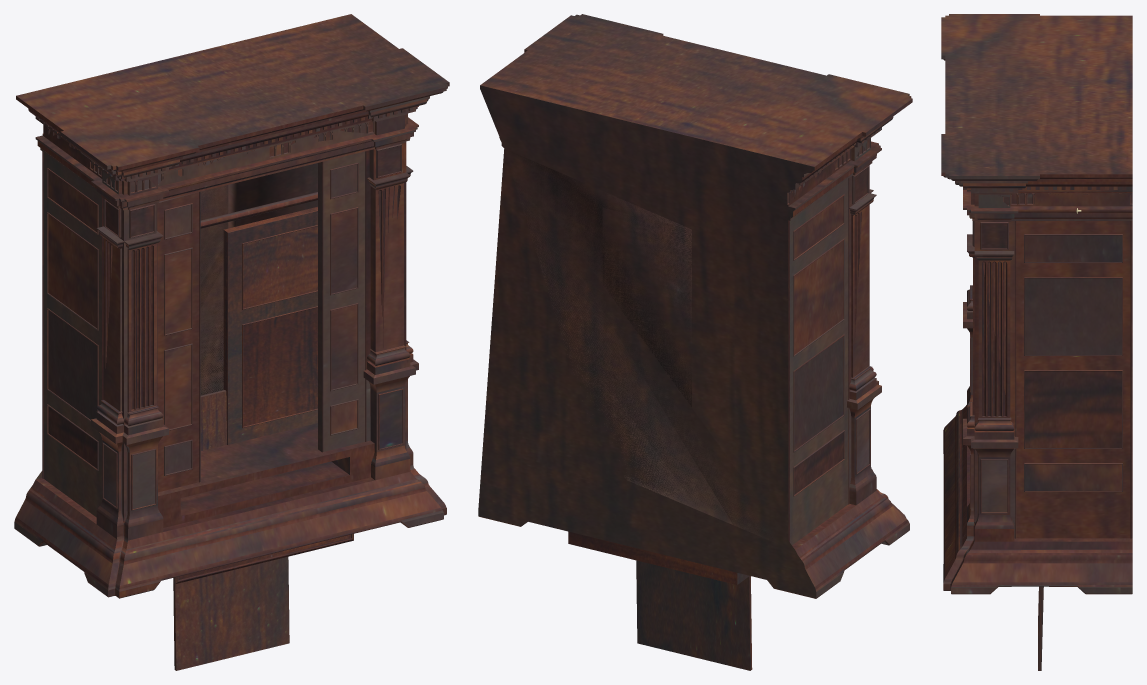
The model's file is wardrobe deform.fbx.
3 views of the same model, side by side, from view 1: azimuth 30°, elevation 25°; view 2: azimuth 150°, elevation 25°; view 3: azimuth 270°, elevation 25° (orthographic). The views are drawn at different scales.
Visible parts, largest first — view 1: Wardrobe, Wardrobe Door, Wardrobe Hidden Panel, Wardrone Chekmedzhe :P; view 2: Wardrobe, Wardrobe Hidden Panel, Wardrone Chekmedzhe :P; view 3: Wardrobe, Wardrobe Hidden Panel.
Boxes of the visible parts, <box> form: Wardrobe: <box>14,14,449,598</box>; Wardrobe Door: <box>223,206,317,444</box>; Wardrobe Hidden Panel: <box>173,390,289,670</box>; Wardrone Chekmedzhe :P: <box>173,534,353,584</box>; Wardrobe: <box>478,14,912,598</box>; Wardrobe Hidden Panel: <box>636,560,752,670</box>; Wardrone Chekmedzhe :P: <box>568,531,749,584</box>; Wardrobe: <box>941,14,1132,594</box>; Wardrobe Hidden Panel: <box>1038,586,1043,670</box>.
Bounding box in the file's own units: 250 × 390 × 123.
Materials: 2 (1 with a texture image).
